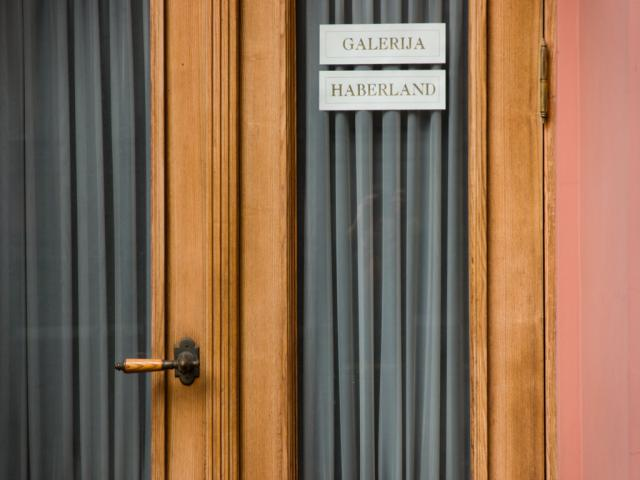Door-handle: (108, 336, 200, 386)
